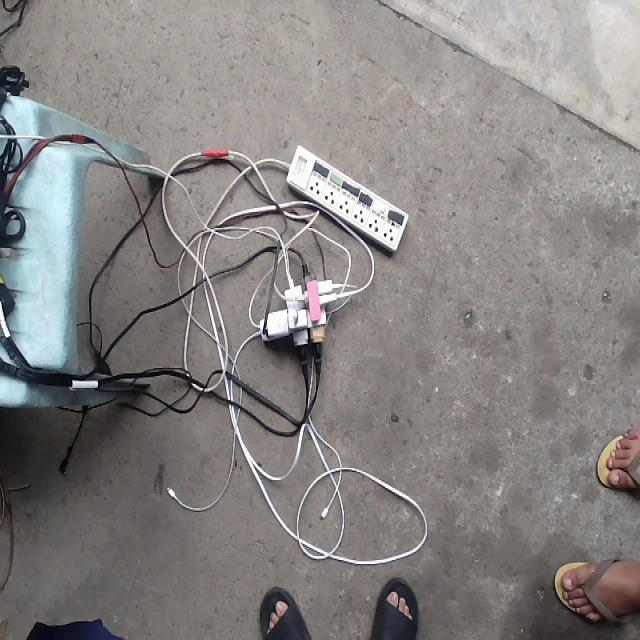-: (247, 262, 359, 366)
